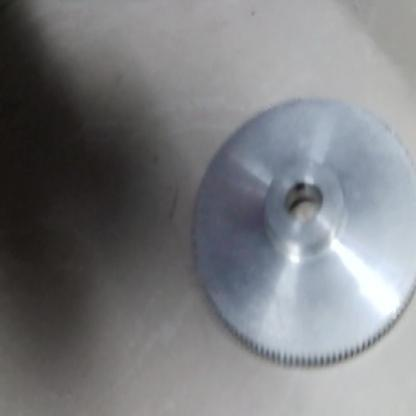FOD: (193, 86, 415, 387)
